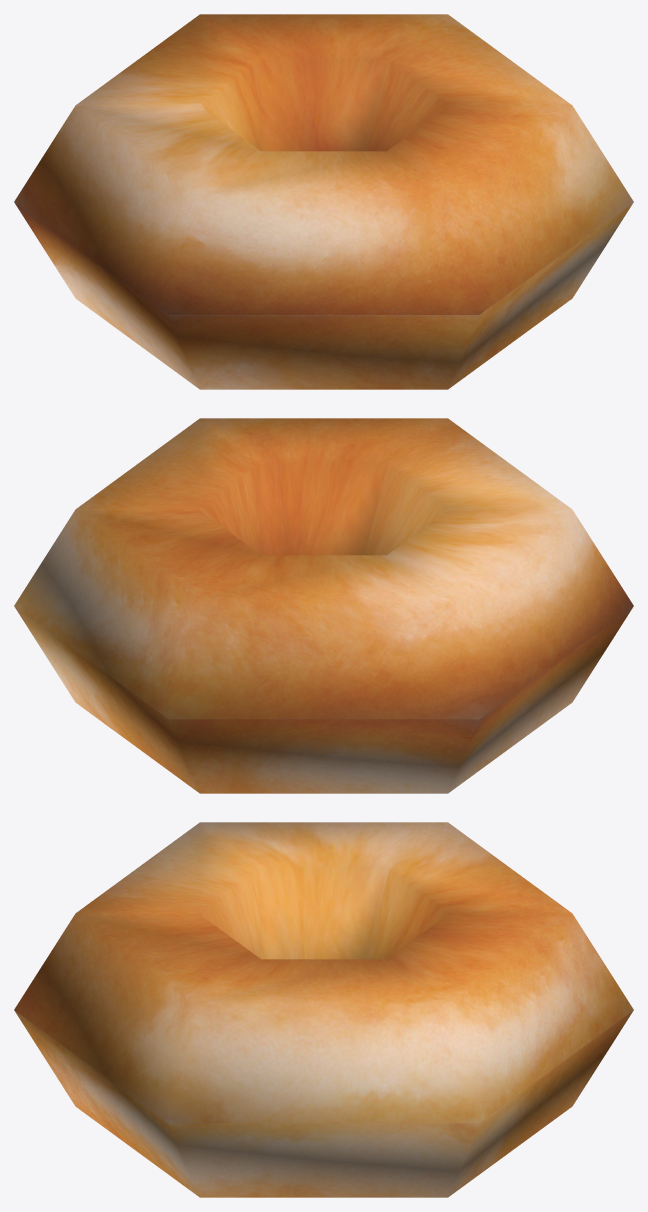
The model's file is donutplain.fbx.
3 views of the same model, one above another, from view 1: azimuth 30°, elevation 25°; view 2: azimuth 150°, elevation 25°; view 3: azimuth 270°, elevation 25° (orthographic).
Visible parts, largest first — view 1: DonutSingle.003; view 2: DonutSingle.003; view 3: DonutSingle.003.
Boxes of the visible parts, x1,y1,x2,y2 form: DonutSingle.003: [14, 14, 633, 389]; DonutSingle.003: [14, 418, 633, 793]; DonutSingle.003: [14, 822, 633, 1197].
Size of the model in its own units: 46.5 by 18.45 by 53.7.
